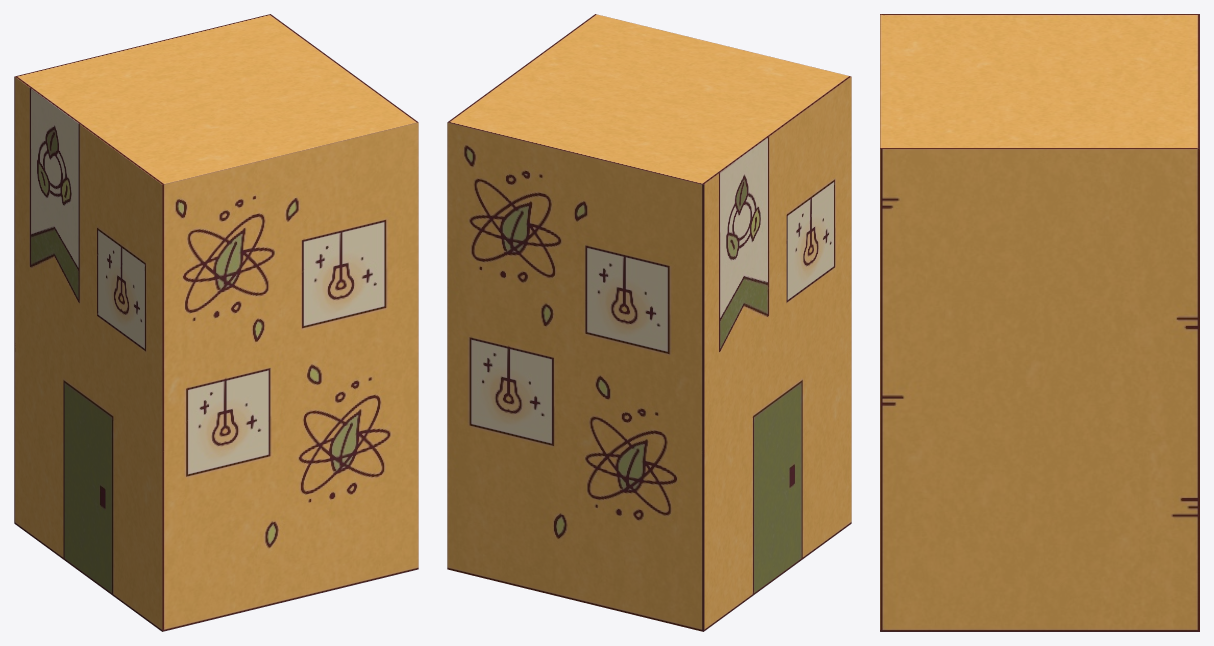
File: dream_building7.fbx
3 renders of one model, left to right at view 1: azimuth 30°, elevation 25°; view 2: azimuth 150°, elevation 25°; view 3: azimuth 270°, elevation 25°, orthographic. The views are drawn at different scales.
Visible parts, largest first — view 1: Box001; view 2: Box001; view 3: Box001.
Part boxes in pixels (left/top/right/bottom): Box001: left=14, top=14, right=418, bottom=631; Box001: left=447, top=14, right=851, bottom=631; Box001: left=880, top=14, right=1199, bottom=631.
Bounding box in the file's own units: 360 × 600 × 360.
1 material, 1 textured.
